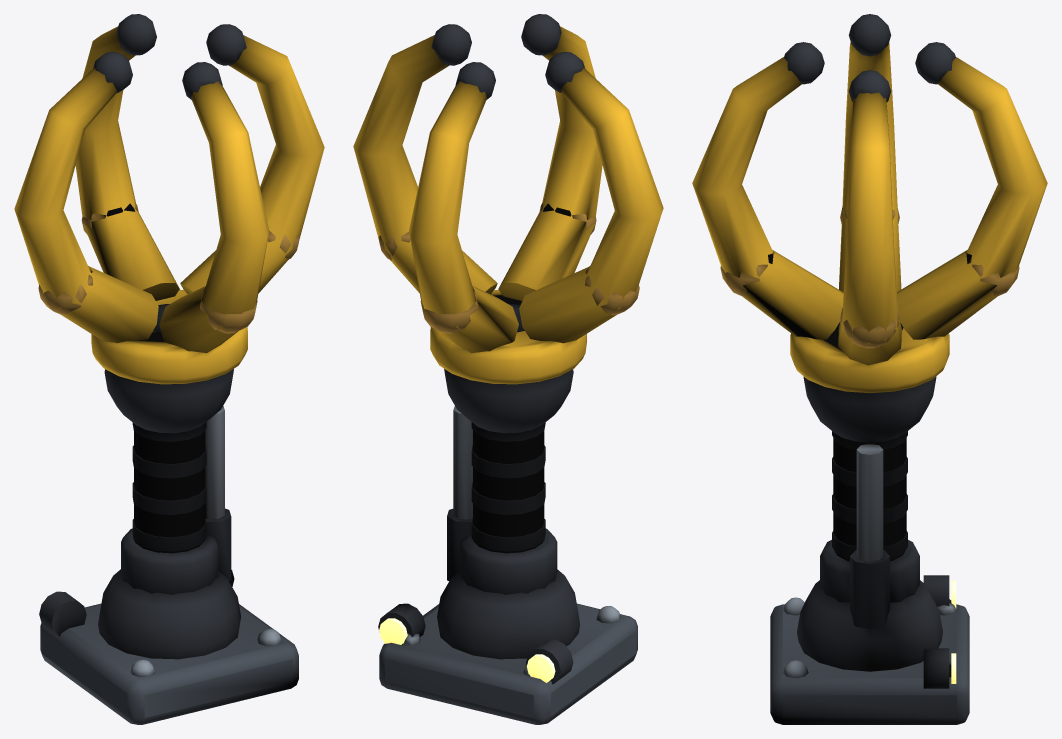
File: part_grapple_3.glb
The picture shows the model from 3 angles, left to right: view 1: azimuth 30°, elevation 25°; view 2: azimuth 150°, elevation 25°; view 3: azimuth 270°, elevation 25°; orthographic projection.
Visible parts, largest first — view 1: grapple_claw_mesh.002, grapple_base.002, grapple_arm_mesh.002; view 2: grapple_claw_mesh.002, grapple_base.002, grapple_arm_mesh.002; view 3: grapple_claw_mesh.002, grapple_base.002, grapple_arm_mesh.002.
Boxes of the visible parts, <box> form: grapple_claw_mesh.002: <box>14,14,324,433</box>; grapple_base.002: <box>39,569,298,724</box>; grapple_arm_mesh.002: <box>121,406,231,594</box>; grapple_claw_mesh.002: <box>353,14,663,433</box>; grapple_base.002: <box>378,569,637,724</box>; grapple_arm_mesh.002: <box>447,406,557,594</box>; grapple_claw_mesh.002: <box>692,14,1047,442</box>; grapple_base.002: <box>770,575,969,724</box>; grapple_arm_mesh.002: <box>820,431,919,629</box>.
Size of the model in its own units: 0.6954 by 1.41 by 0.6954.
